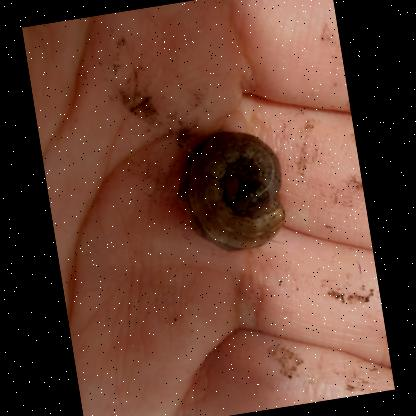Fall Armyworm Larvae: (160, 114, 298, 265)
